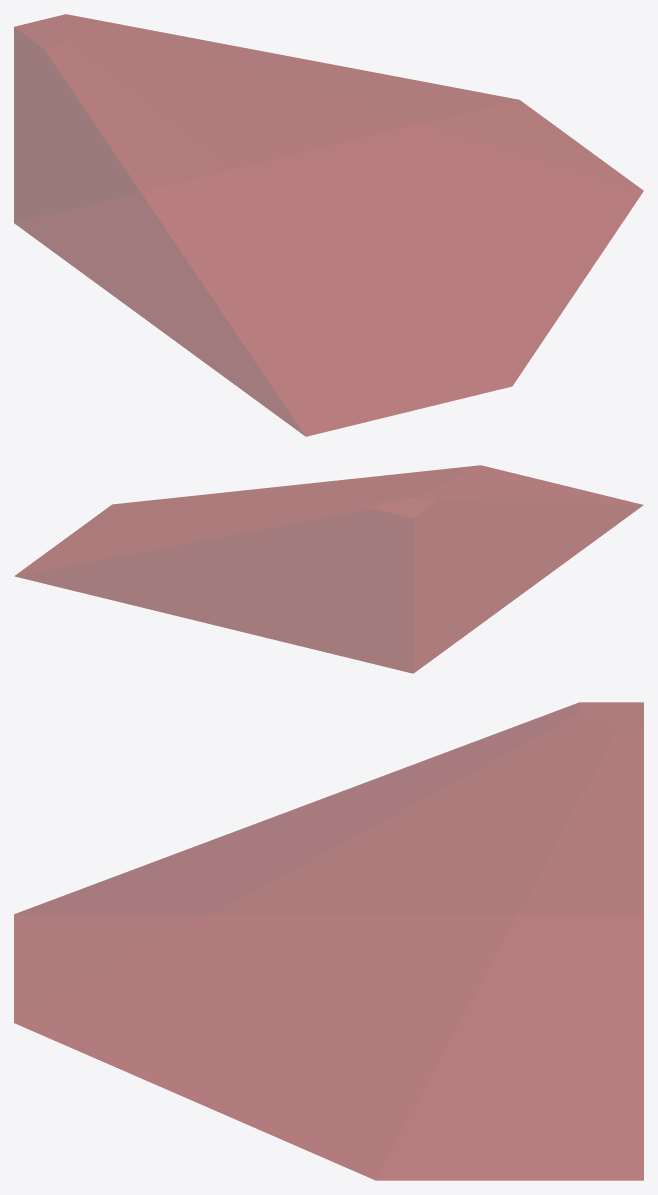
File: SM_Bld_Steps_01_Corner_Outer_02_Collision.fbx
3 views of the same model, one above another, from view 1: azimuth 30°, elevation 25°; view 2: azimuth 150°, elevation 25°; view 3: azimuth 270°, elevation 25° (orthographic). The views are drawn at different scales.
Parts seen in each view (by area): view 1: SM_Bld_Steps_01_Corner_Outer_02_Collision; view 2: SM_Bld_Steps_01_Corner_Outer_02_Collision; view 3: SM_Bld_Steps_01_Corner_Outer_02_Collision.
Boxes of the visible parts, box(x1,y1,x2,y2) form: SM_Bld_Steps_01_Corner_Outer_02_Collision: box(14, 14, 643, 436); SM_Bld_Steps_01_Corner_Outer_02_Collision: box(14, 465, 643, 673); SM_Bld_Steps_01_Corner_Outer_02_Collision: box(14, 702, 643, 1180).
Bounding box in the file's own units: 269 × 100 × 269.
